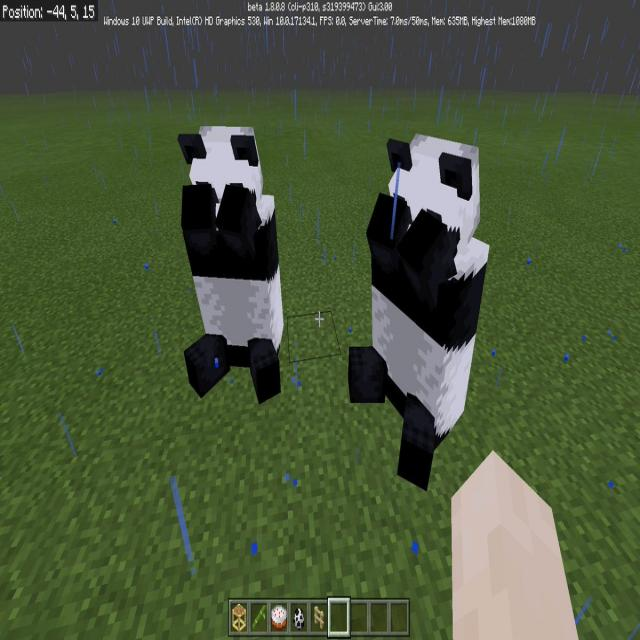Panda: (346, 133, 491, 493), (175, 120, 286, 405)
